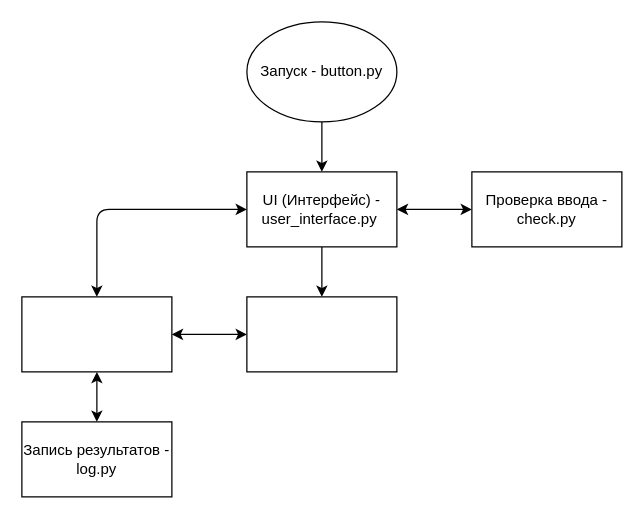
The diagram is 644 pixels wide and 519 high, and some of its shapes have lost their labels. The shapes that lost their labels are listed below. From the top down, each one's box as (x1, y1, x2, y2) in pixels, then its label:
(21, 296, 172, 372): Контроллер - controller.py
(246, 296, 397, 372): Вычисления - operations.py
